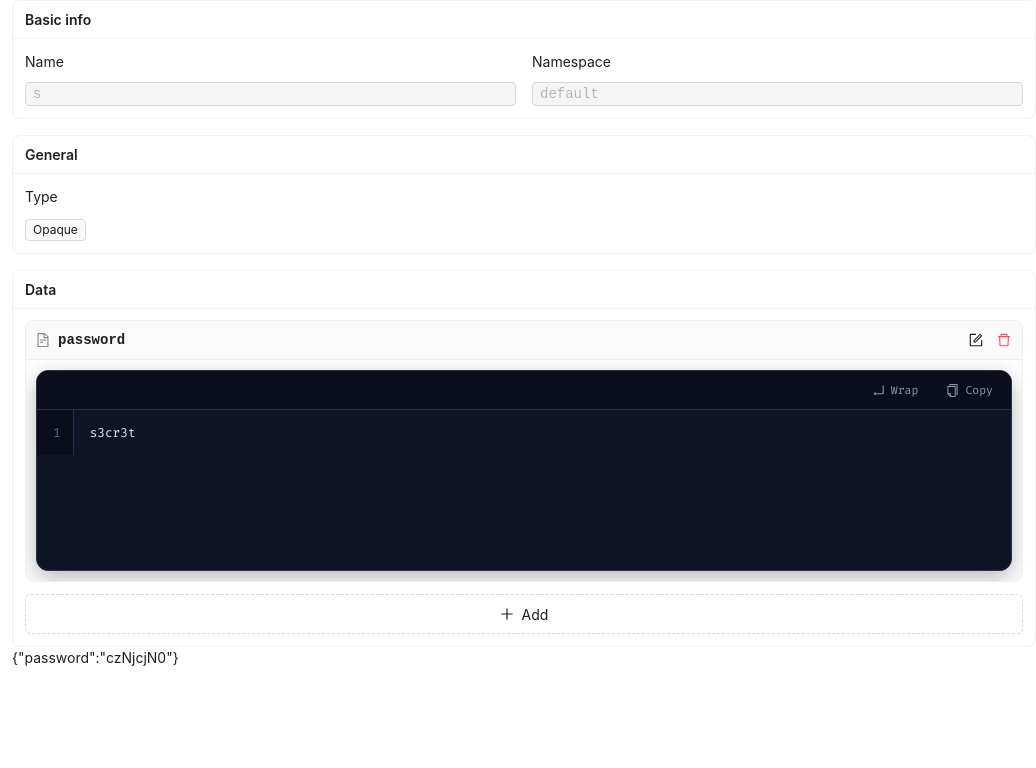
Test case: SecretForm base64 round-trip › shows decoded values and re-encodes to base64 on edit
Replace the text in the text box showing "s3cr3t" with "newpass". click: (542, 432)
box: [74,410,1011,455]
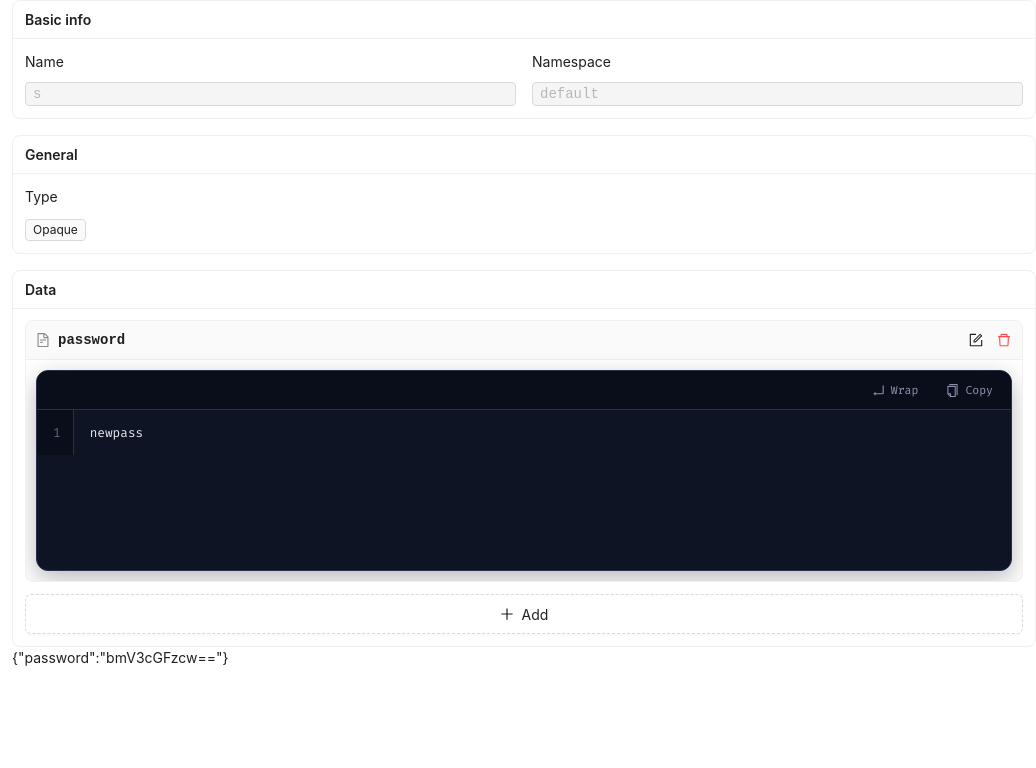
Check: the text "newpass" is shown, box [90,424,143,441]
